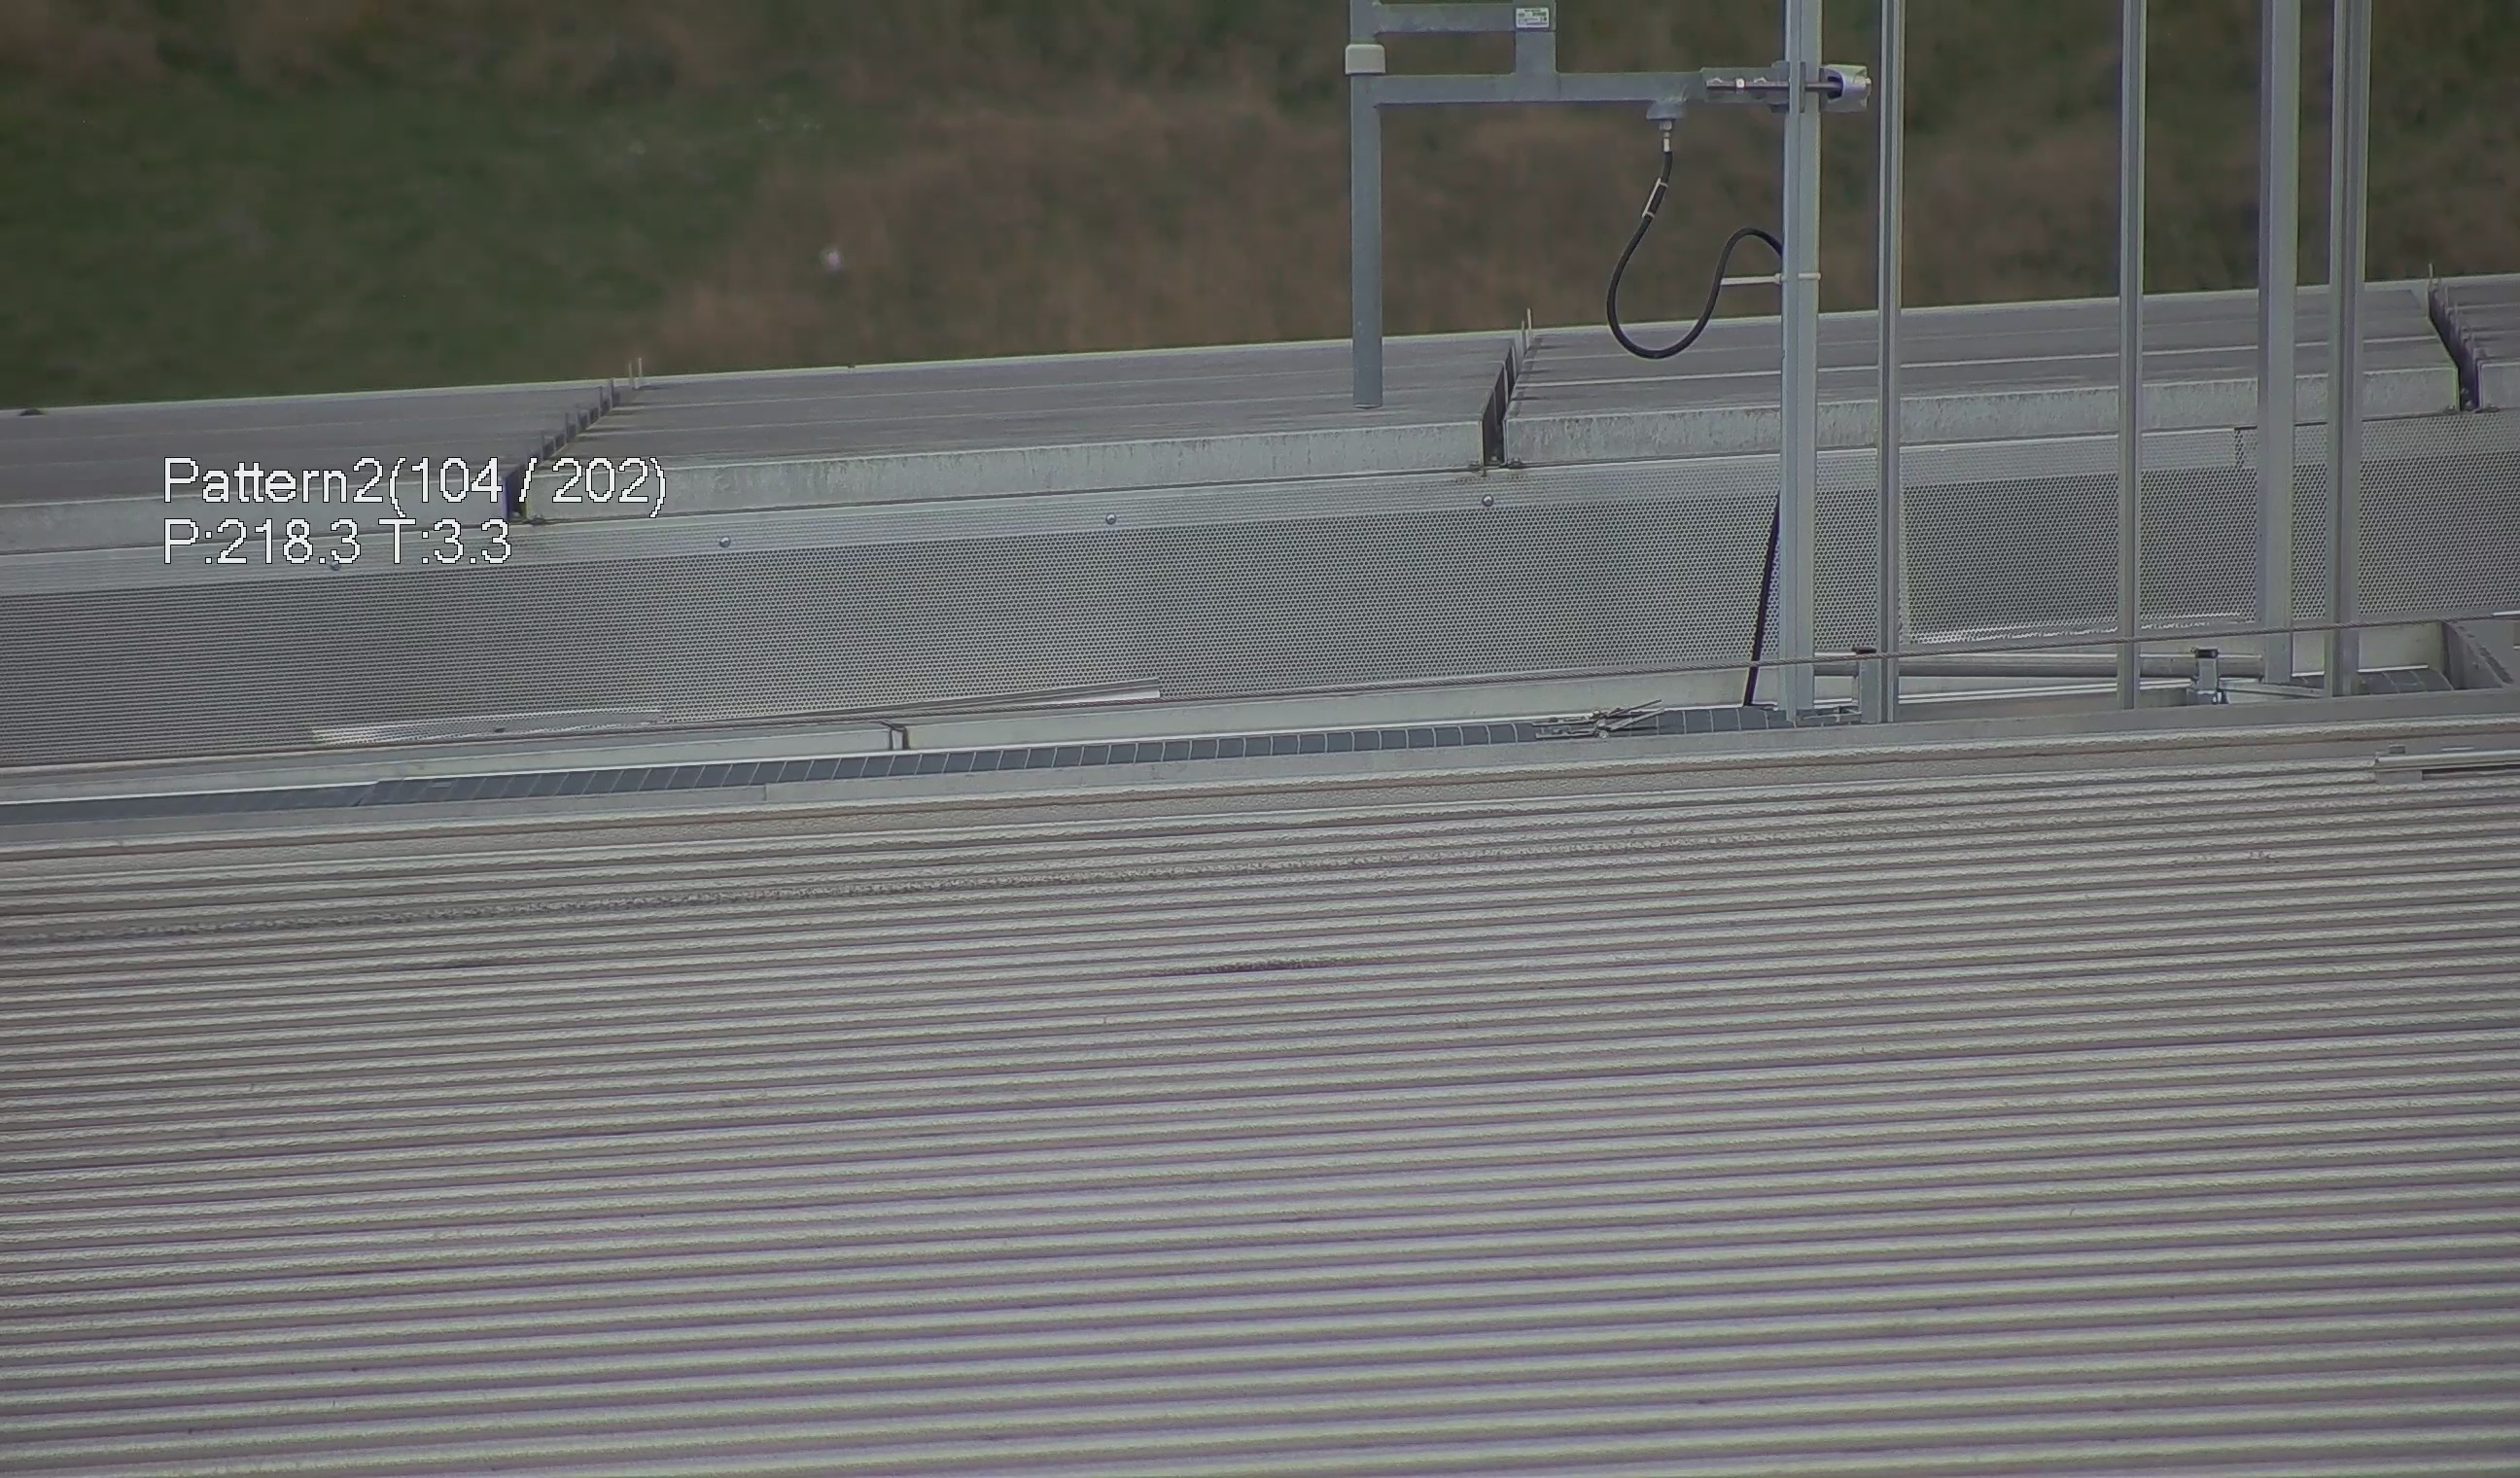Other: (2423, 262, 2509, 424)
